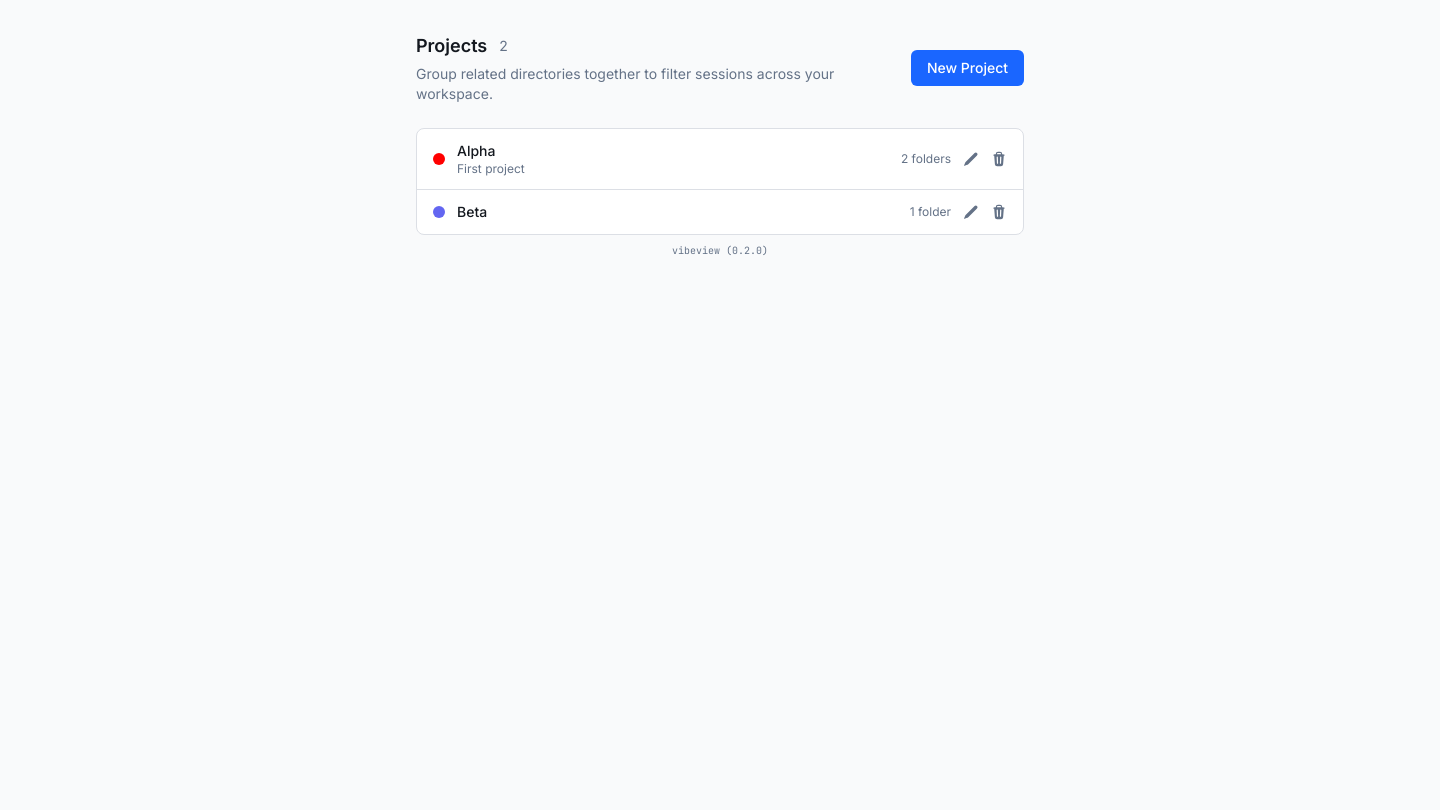
Scenario: ProjectList › opens confirmation dialog when delete button clicked
Click the button named "Delete Alpha". click: {"x": 999, "y": 159}
box: [991,151,1007,167]
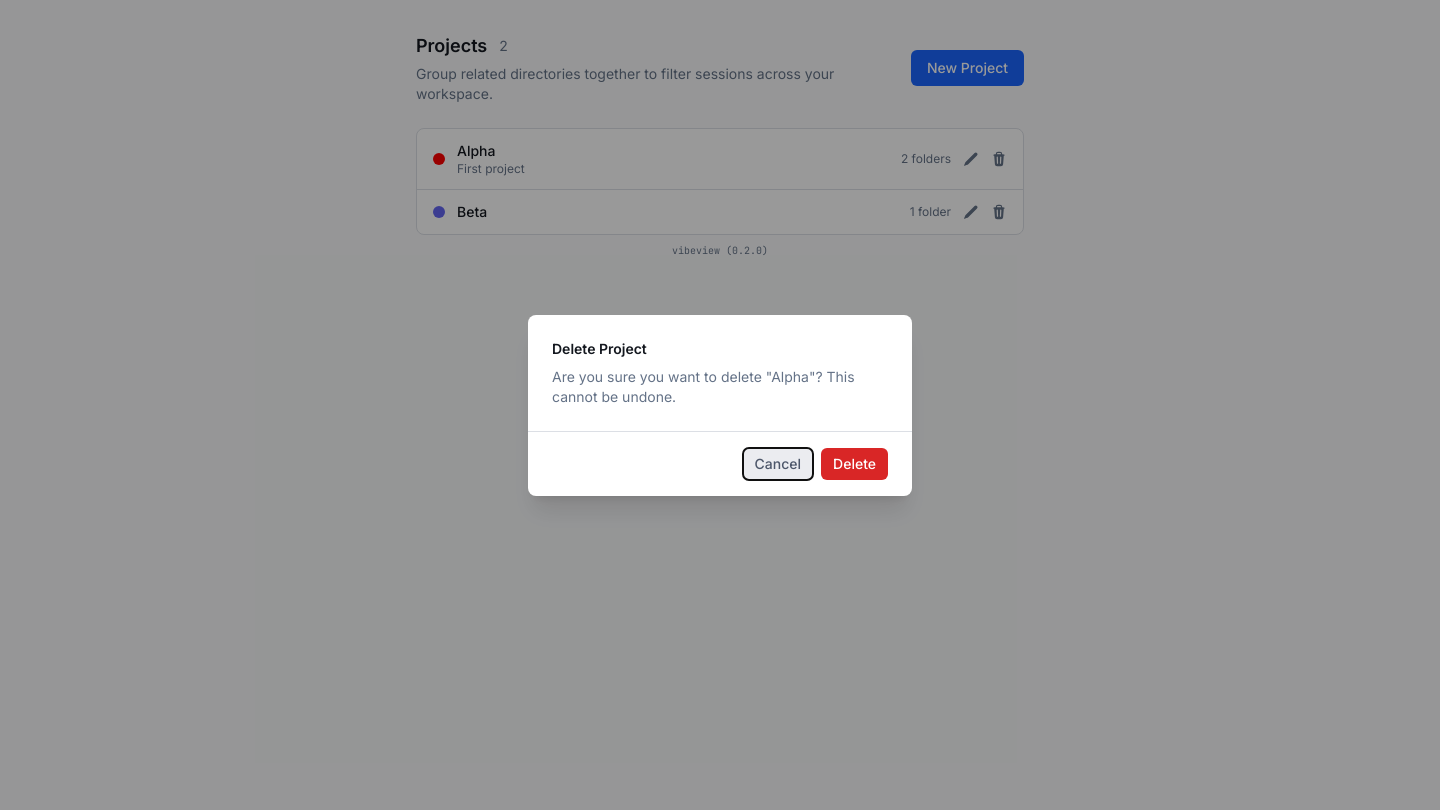
Expected: the text "Are you sure you want to delete \"Alpha\"" is shown, [552,368,855,404]
